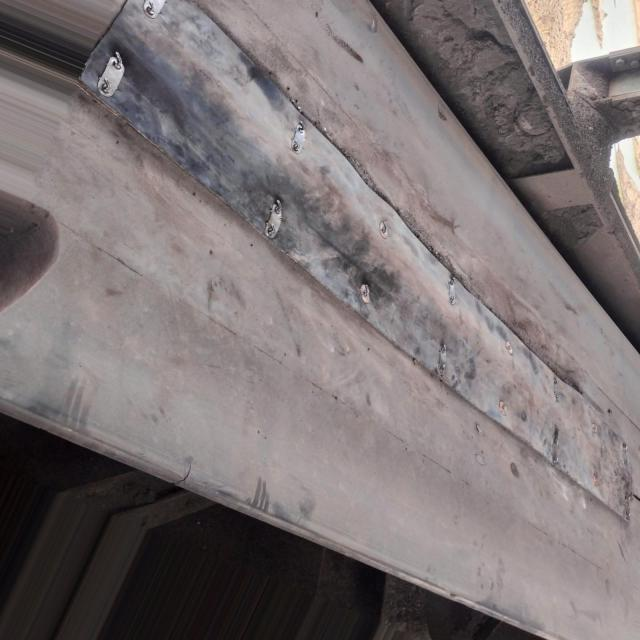patch work: (72, 0, 632, 525)
